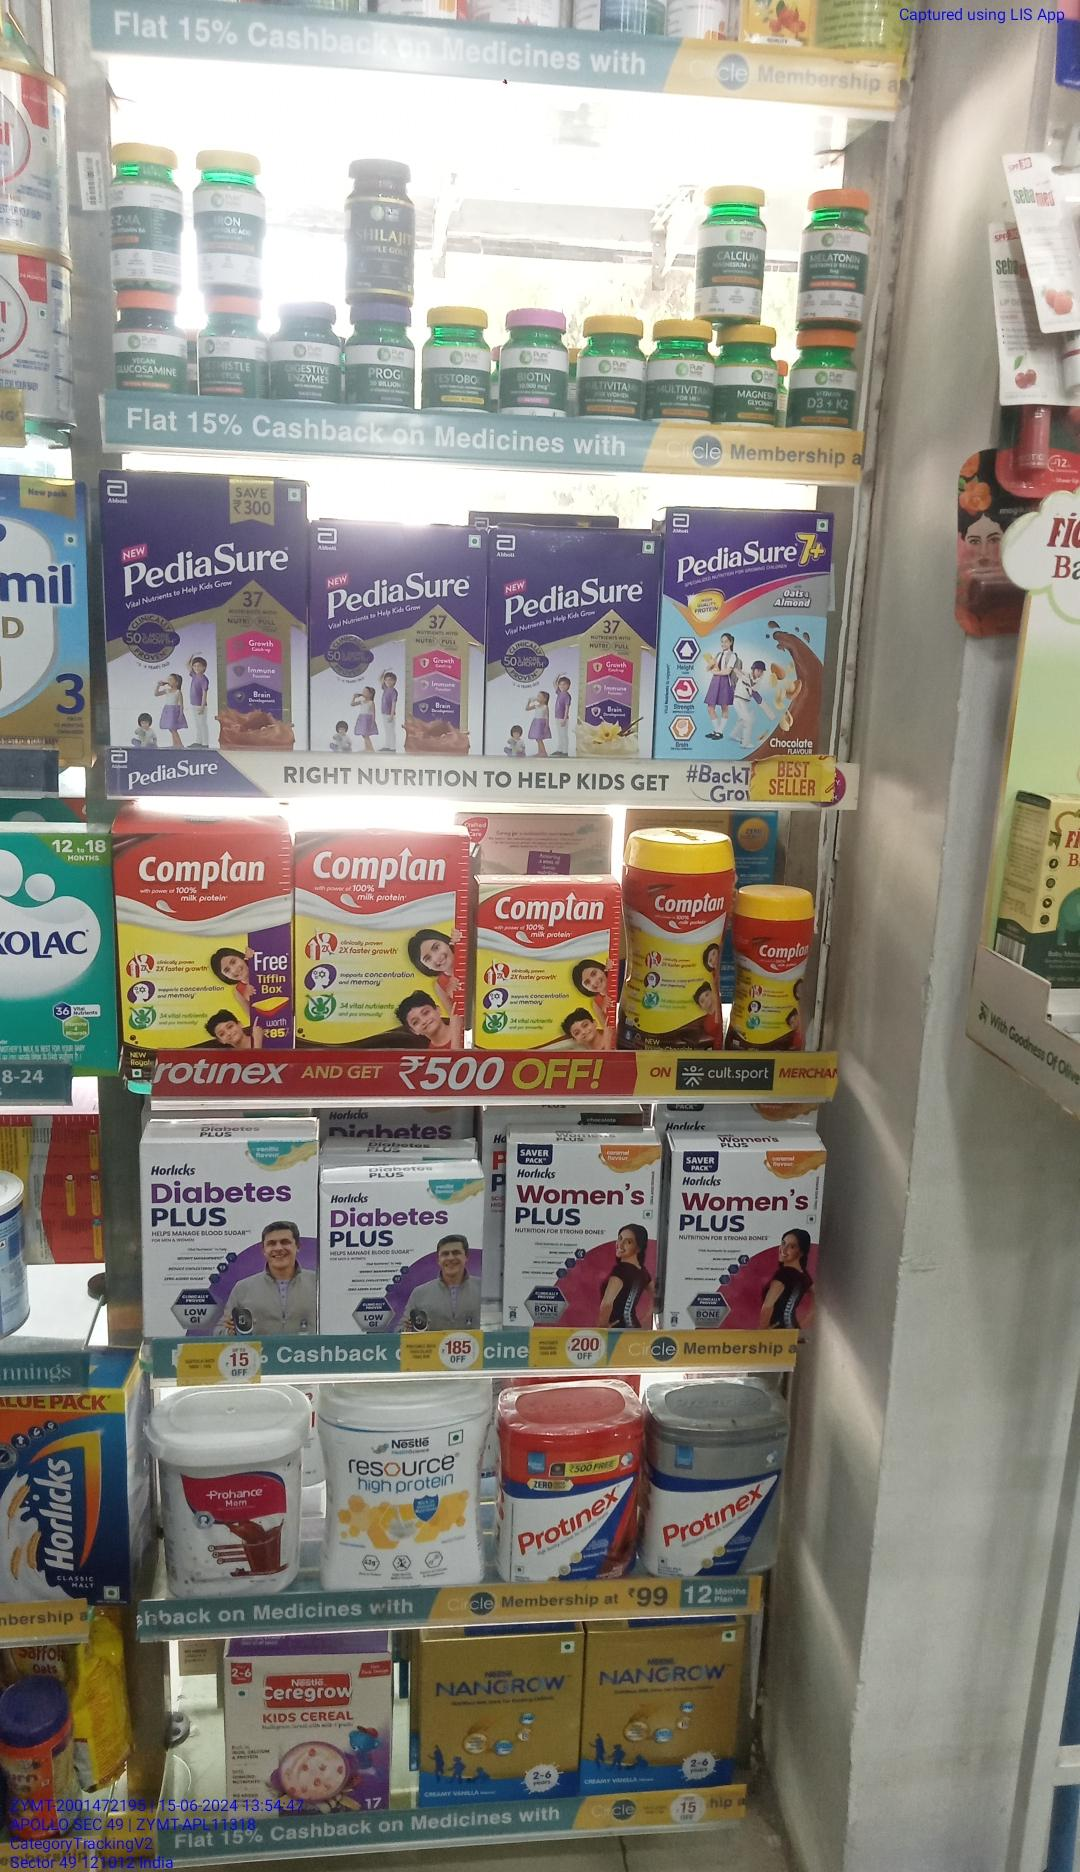COMPLAN_CHOCOLATE_200_GMS_JAR: (735, 885, 806, 1050)
COMPLAN_CHOCOLATE_500_GMS_JAR: (626, 825, 728, 1050)
COMPLAN_CHOCOLATE_500_GMS_PACK: (117, 834, 291, 1045), (296, 833, 464, 1048)
COMPLAN_KESAR_BADAM_500_GMS_PACK: (478, 879, 617, 1049)
PEDIASURE_7_PLUS_CHOCOLATE_400_G_PACK: (662, 508, 825, 756)
PEDIASURE_CHOCOLATE_500_G_PACK: (102, 474, 305, 746), (311, 521, 480, 751)
PEDIASURE_VANILLA_500_G_PACK: (489, 526, 651, 757)
PROTINEX_CHOCOLATE_400_G_JAR: (494, 1391, 640, 1581)
PROTINEX_ORIGINAL_400_G_JAR: (648, 1392, 780, 1570)
